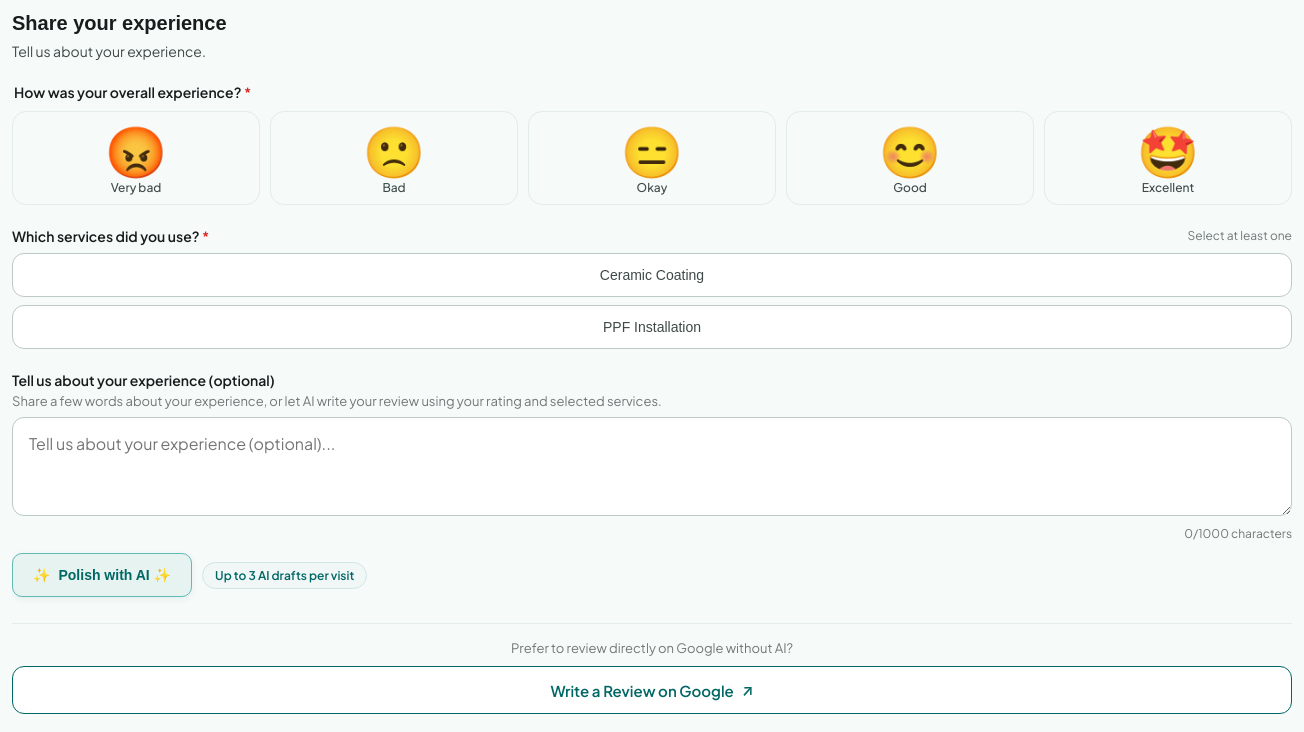
Test: CustomerReviewFlow Component (Unified Review Journey) › 11. should link character counter via aria-describedby and announce via aria-live="polite"
Expected: the text with test id "feedback-text-counter" reads "0/1000 characters", x1=1184 y1=526 x2=1292 y2=541
Type "Hello world" into the text box with placeholder "Tell us about your experience (optional)..." at (652, 466), box x1=12 y1=417 x2=1292 y2=516
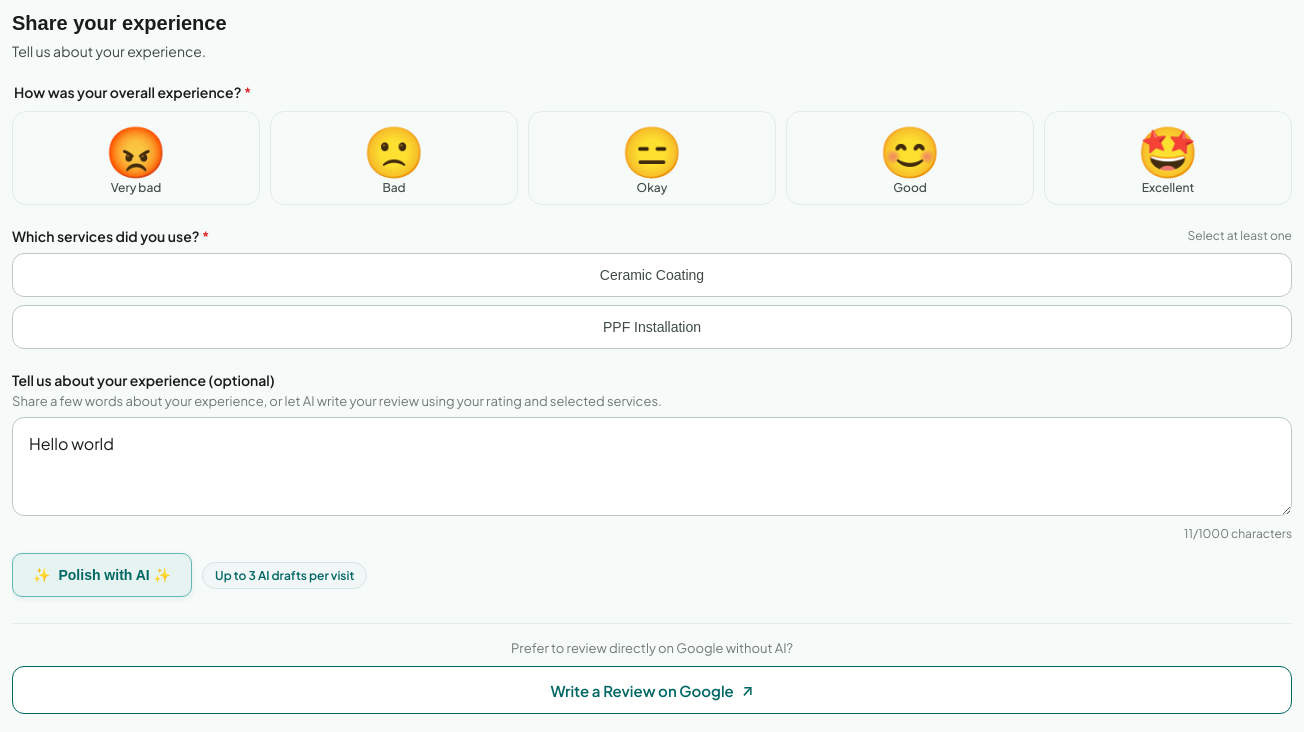
Result: the text with test id "feedback-text-counter" reads "11/1000 characters" at x1=1184 y1=526 x2=1292 y2=541
